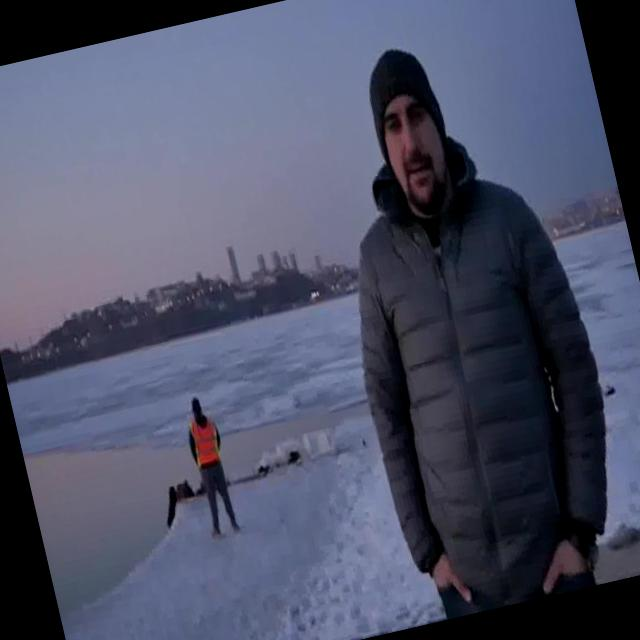vest: (185, 414, 226, 471)
